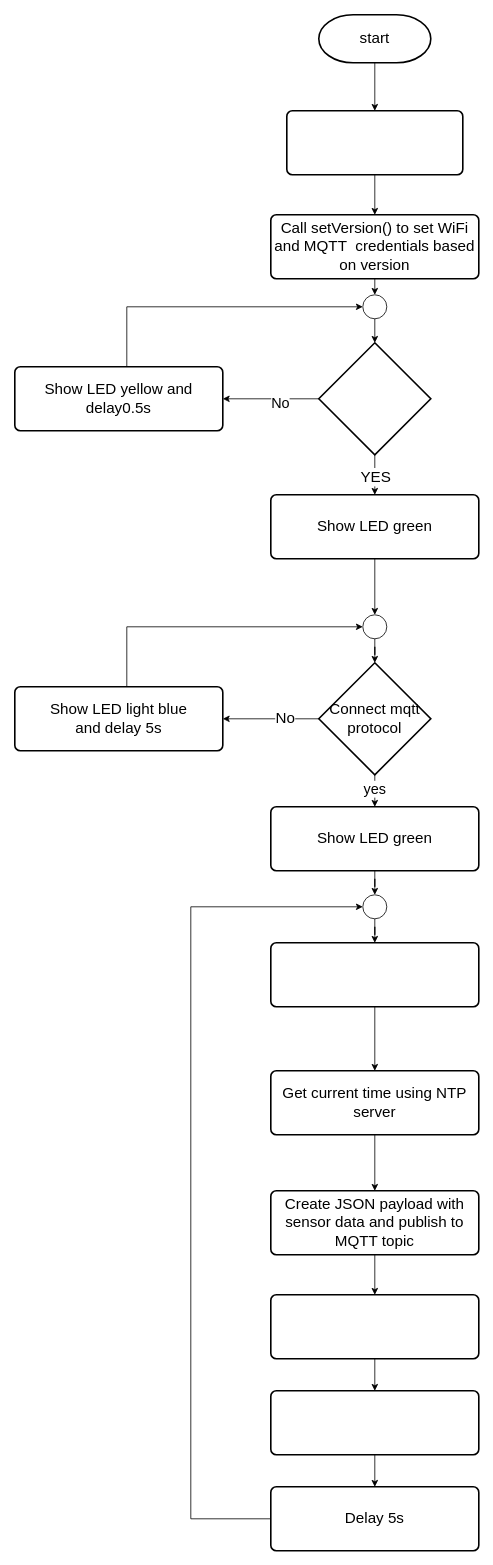
This 493x1565 diagram has some shape labels left out. Each missing label, with the centre of its shape:
Connect to WiFi: (x=374, y=398)
Display sensor values and time on Serial Monitor: (x=374, y=1326)
Read data from sensor: (x=374, y=974)
Setup the hardware and sensors: (x=374, y=142)
Show LED blue: (x=374, y=1422)
